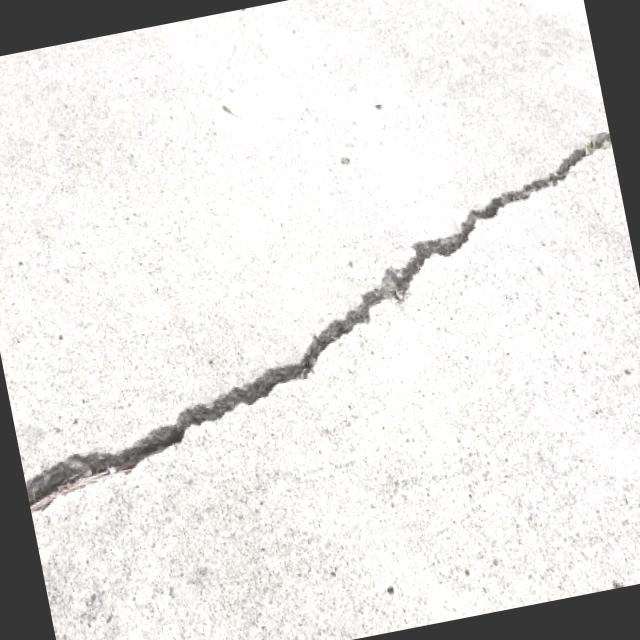crack: (0, 126, 640, 515)
